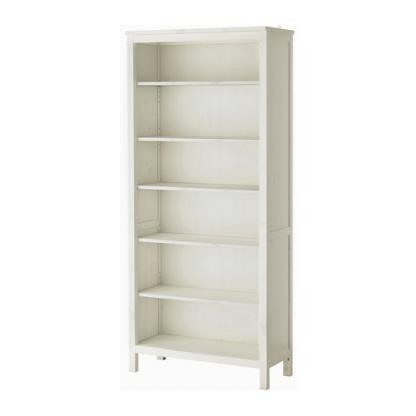Cabinet: (120, 25, 294, 391)
